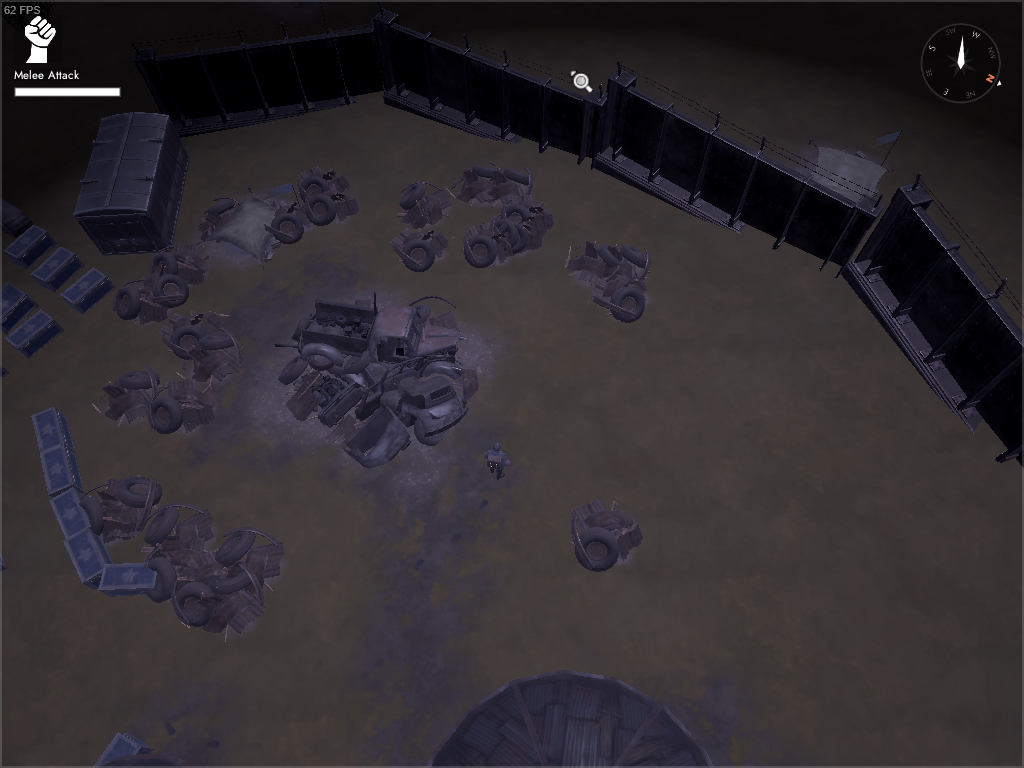container: (70, 108, 192, 259)
crane: (1, 200, 33, 239)
fortified_wall: (590, 59, 887, 284), (840, 172, 1024, 467), (126, 8, 405, 141), (376, 16, 608, 174)
foxhole: (188, 181, 319, 279), (786, 128, 911, 220)
player: (481, 441, 513, 483)
scrap: (140, 502, 286, 645), (198, 189, 307, 267), (565, 238, 651, 324), (162, 305, 248, 388), (460, 197, 554, 270), (564, 494, 645, 575), (79, 473, 162, 548), (145, 370, 222, 443), (453, 158, 540, 217), (113, 270, 188, 330), (288, 170, 358, 232), (96, 369, 164, 425), (147, 243, 210, 300), (390, 176, 455, 226), (392, 223, 451, 273)
scrapyard: (270, 290, 479, 472)
storage_box: (56, 263, 118, 320), (1, 307, 66, 360), (60, 528, 112, 593), (47, 485, 101, 543), (96, 557, 166, 601), (28, 244, 86, 296), (2, 220, 60, 272), (36, 443, 83, 502), (88, 729, 156, 768), (29, 405, 76, 457)
